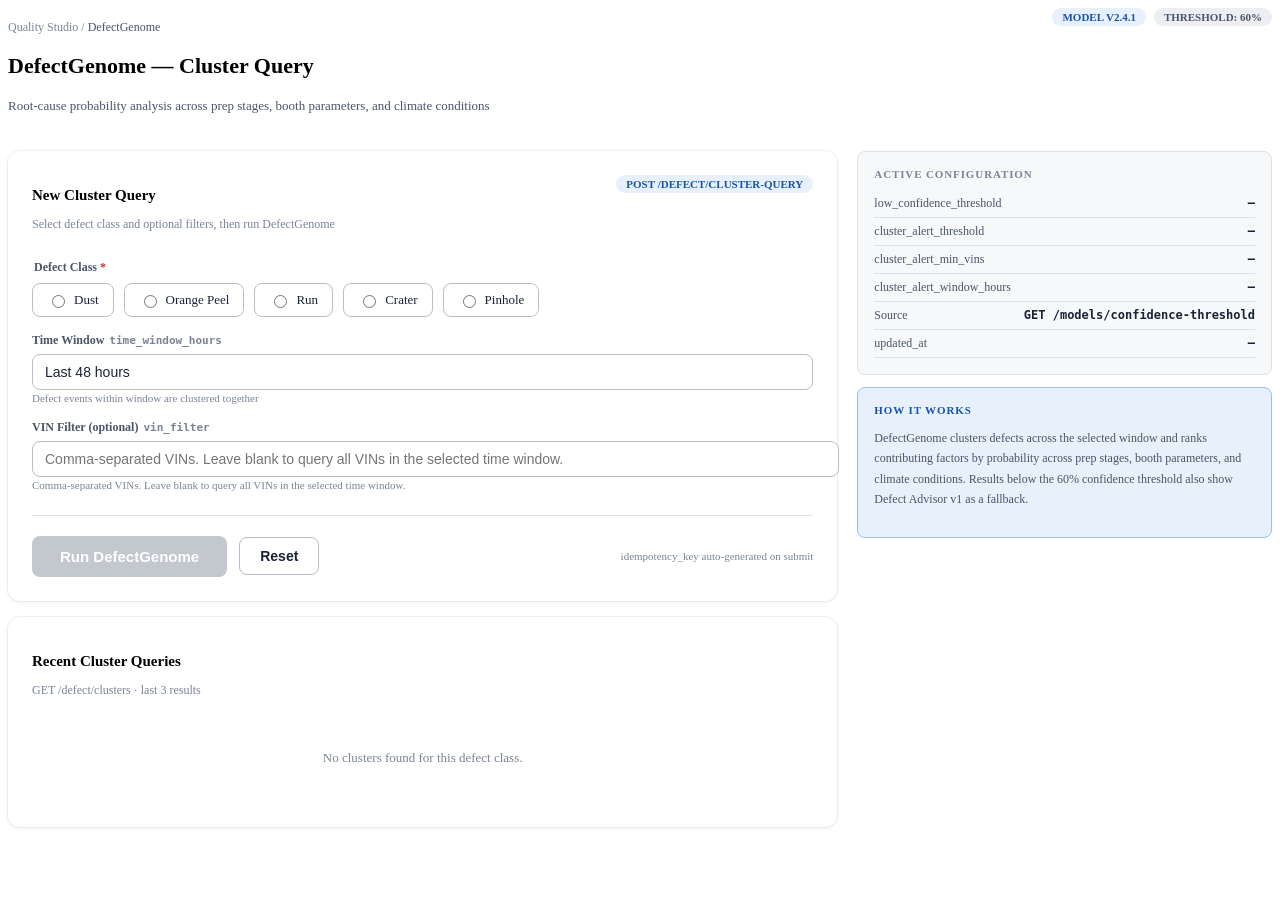
Test case: DefectGenomePage — factor list renders from ClusterQueryResult › renders all 5 factors from top_factors in the result
Click the radio button with test id "radio-dust" at (58, 301), box [52,295,65,308]
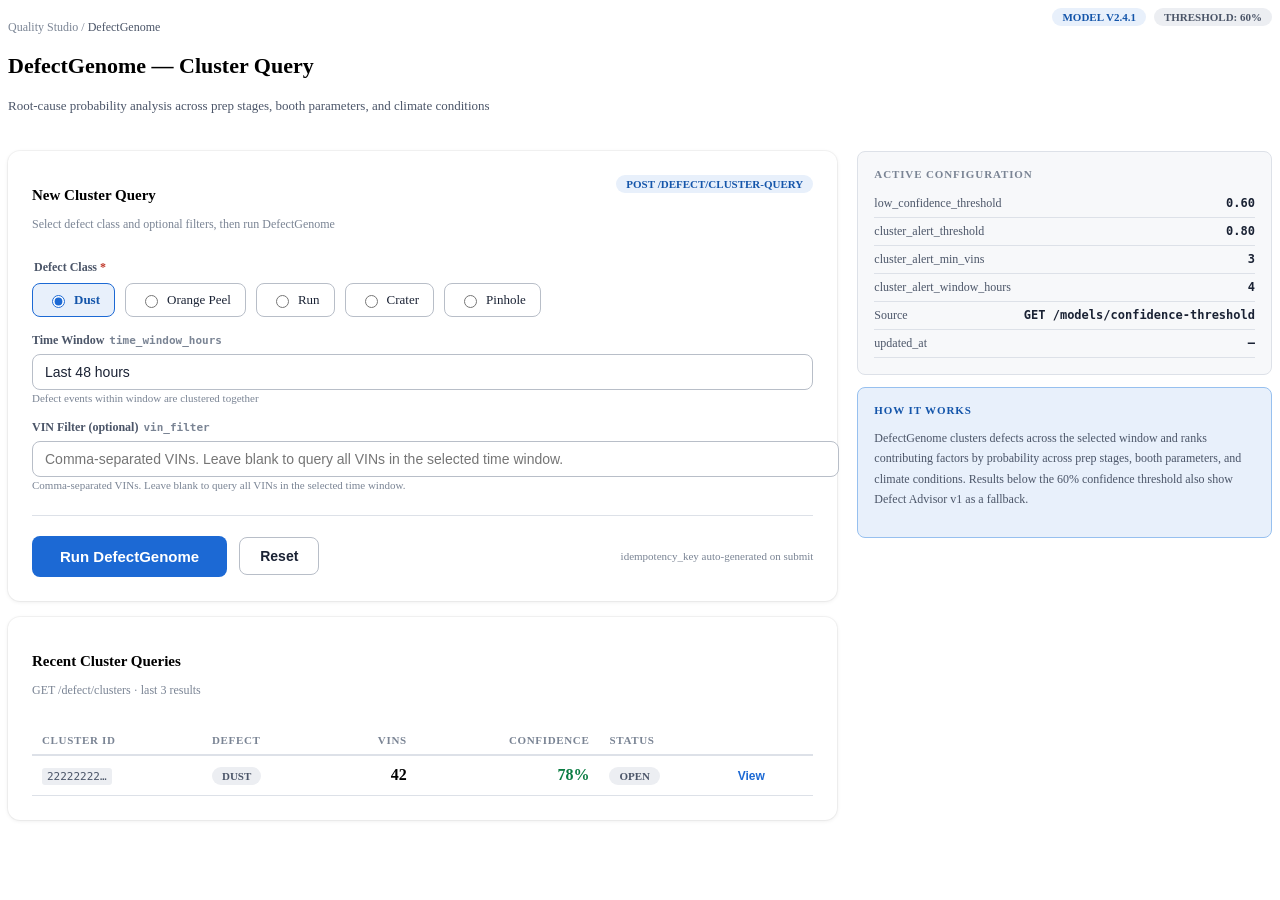
Click the button with test id "run-defect-genome-btn" at (130, 556), box [32,536,227,577]
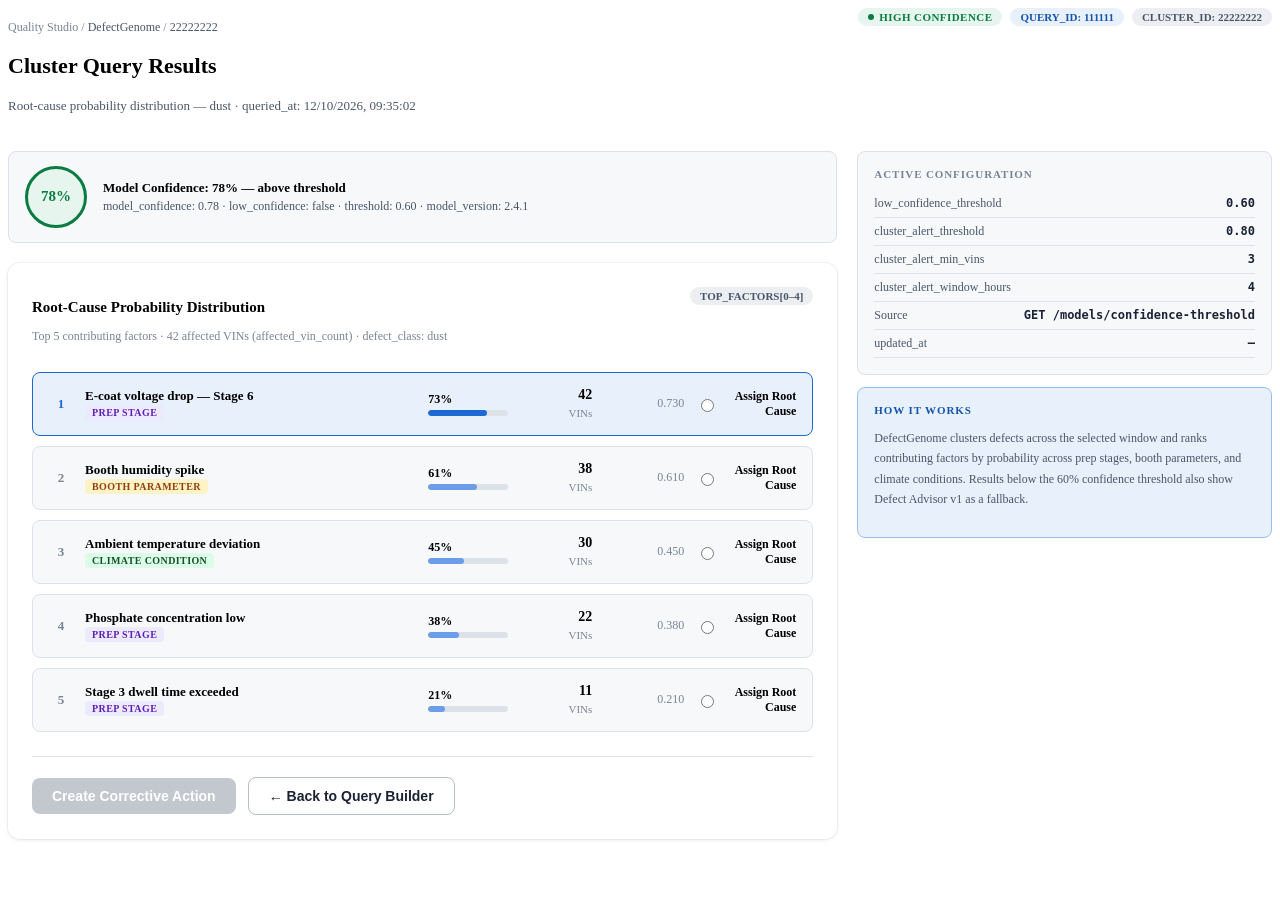
Expected: the element with test id "factor-list" is shown, [32,372,813,732]
Expected: the list item with test id "factor-row-1" is shown, [32,372,813,436]
Expected: the list item with test id "factor-row-2" is shown, [32,446,813,510]
